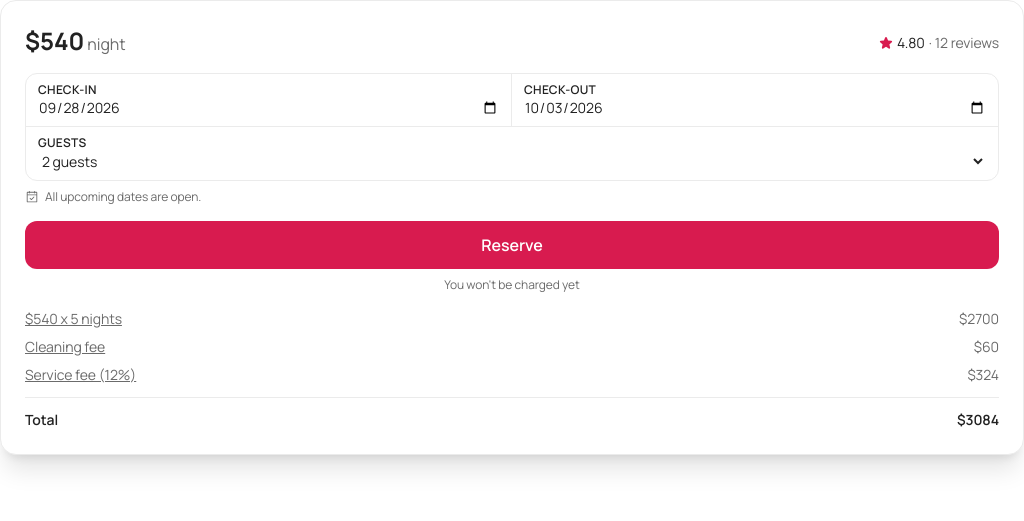
Test: <BookingWidget /> › surfaces server-side conflicts (409) and refreshes the booked ranges
Click the button with test id "reserve" at (512, 245), box [25,221,999,269]
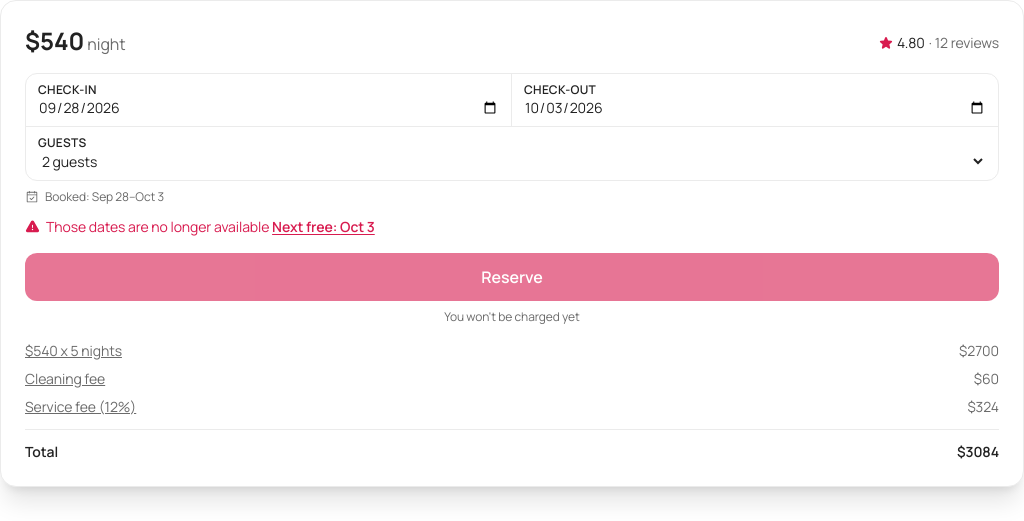
Check: the message shows "no longer available", box [46,217,269,236]
Check: the button with test id "reserve" is disabled, box [25,253,999,301]
